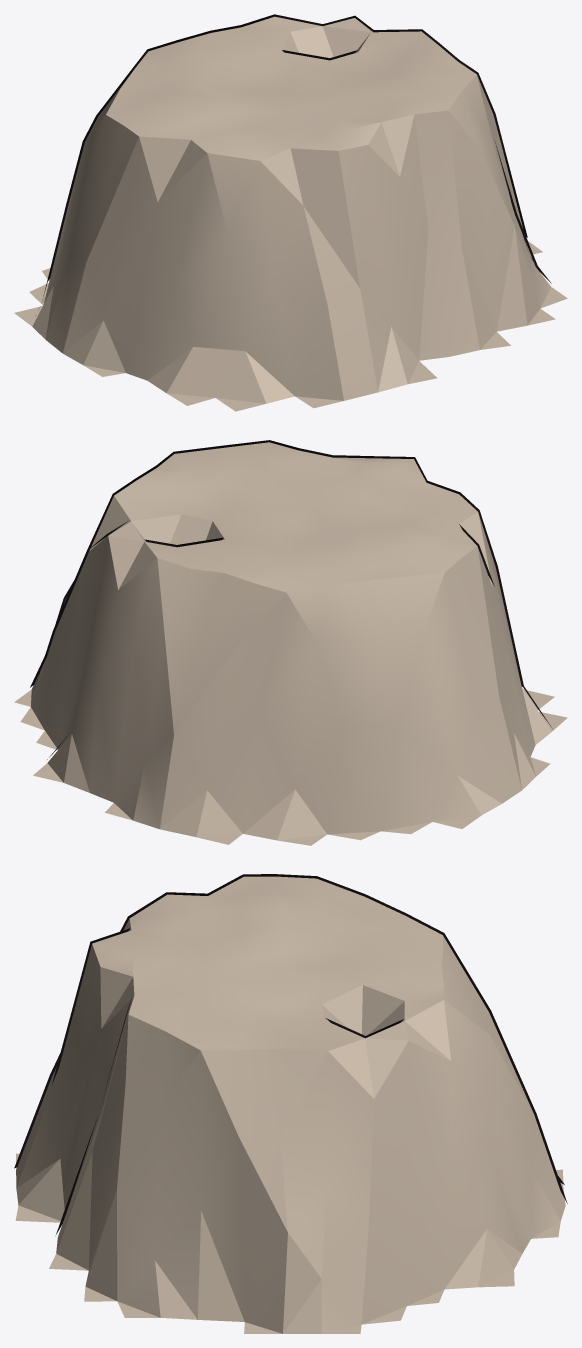
Rendered from SM_Cliff_06.fbx.
The picture shows the model from 3 angles, top to bottom: view 1: azimuth 30°, elevation 25°; view 2: azimuth 150°, elevation 25°; view 3: azimuth 270°, elevation 25°; orthographic projection. The views are drawn at different scales.
Visible parts, largest first — view 1: SM_Cliff_06; view 2: SM_Cliff_06; view 3: SM_Cliff_06.
Boxes of the visible parts, left/top/right/bottom form: SM_Cliff_06: left=14, top=14, right=567, bottom=411; SM_Cliff_06: left=14, top=440, right=567, bottom=845; SM_Cliff_06: left=14, top=874, right=567, bottom=1333.
Size of the model in its own units: 11.6 by 5.27 by 10.7.
